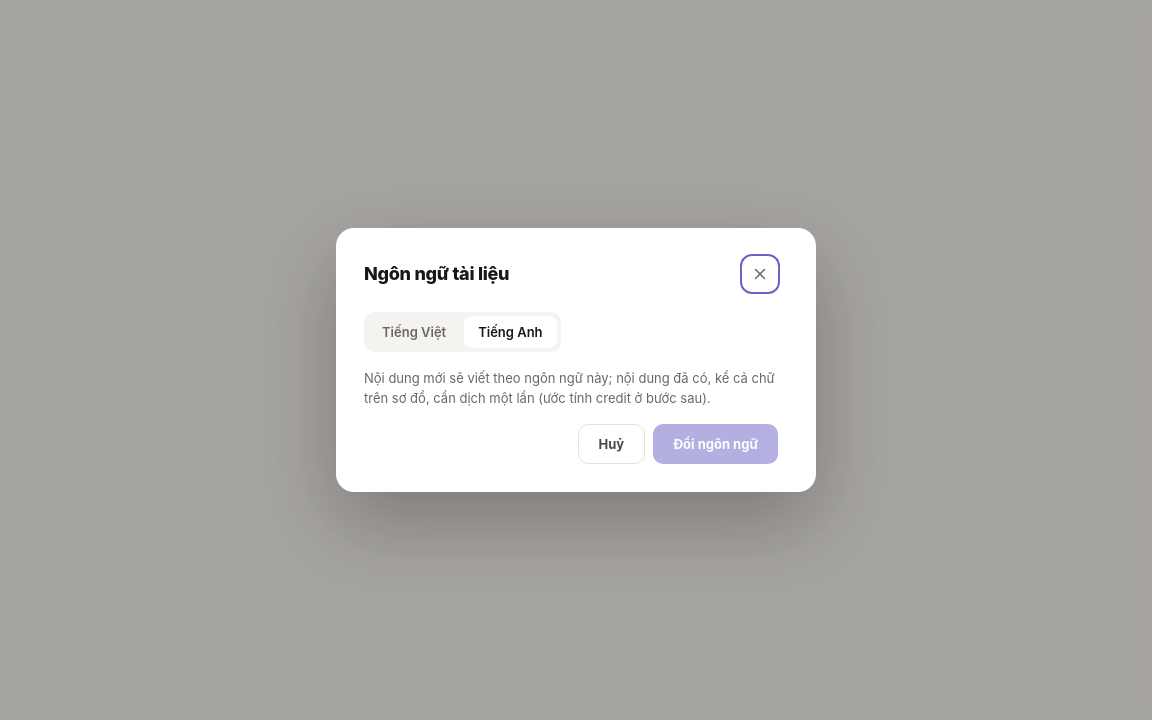
Test: ProjectActionDialogs — đổi ngôn ngữ rồi mời dịch phần đã có (FLF-265, phase 1 §1.7) › còn mục chưa dịch ⇒ chuyển sang hộp “Dịch tài liệu” với ước tính vừa đọc, danh sách đã tải lại, chưa đóng
What coordinates should you click on to do the following:
click the radio button labelled "Tiếng Việt"
I would click on:
 (414, 332)
Its box is [382,324,446,340].
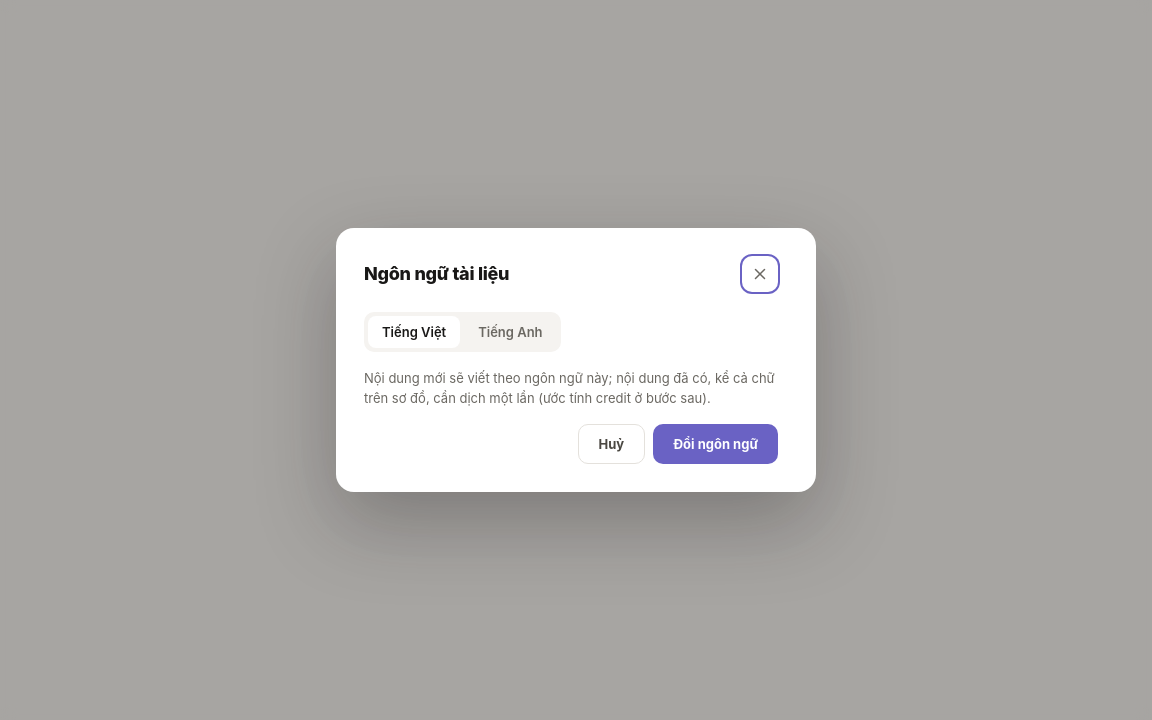
What coordinates should you click on to do the following:
click the button "Đổi ngôn ngữ"
I would click on:
 (716, 444)
Its box is [653,424,778,464].
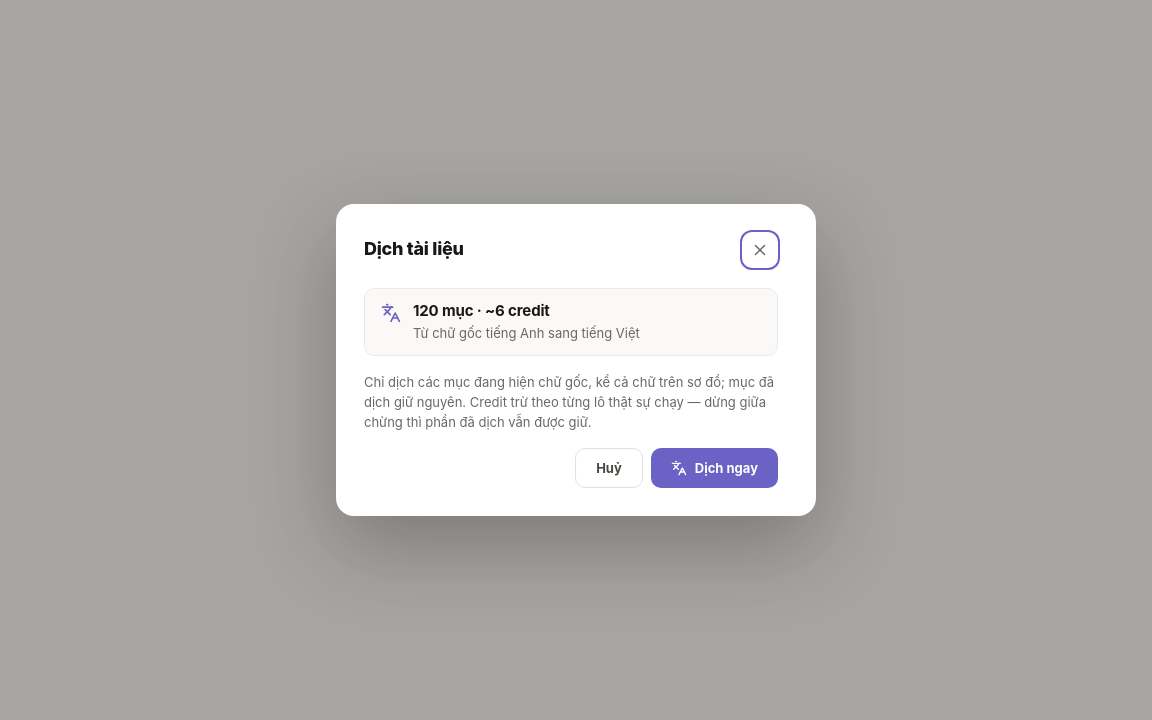
Now the dialog "Dịch tài liệu" shows "120 mục · ~6 credit", box [413,301,550,320]
